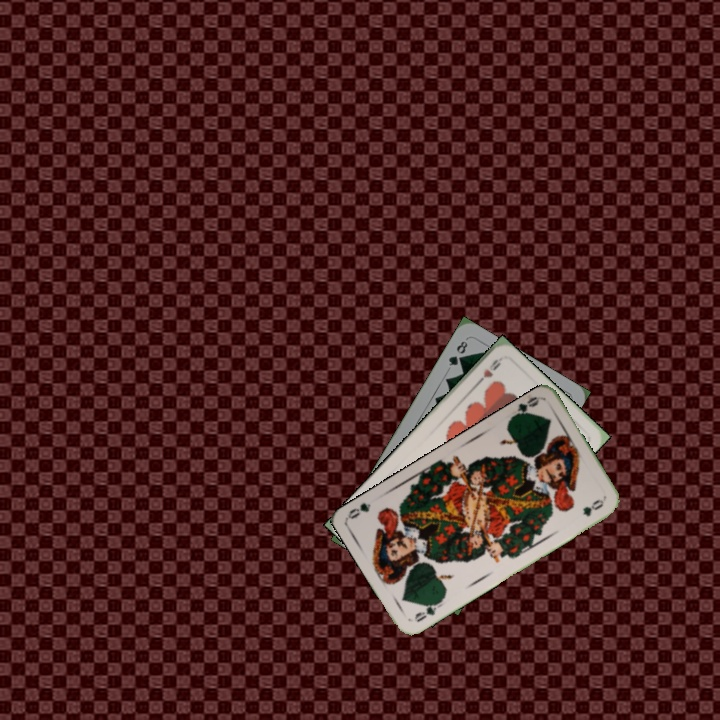G8: (444, 337, 470, 369)
GO: (506, 392, 542, 422), (411, 595, 446, 625)
H9: (472, 355, 503, 388)
